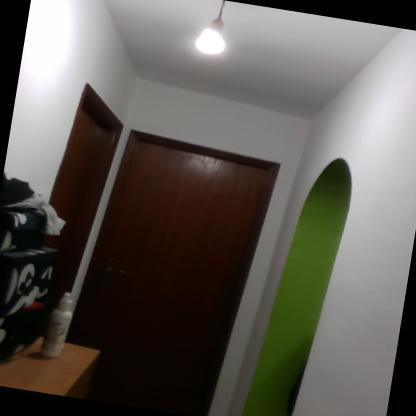closed: (69, 115, 298, 415)
